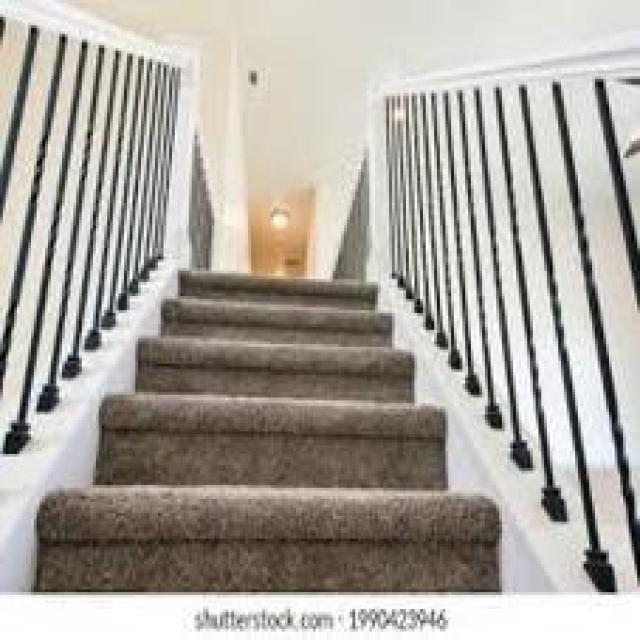upstair: (52, 303, 475, 545)
